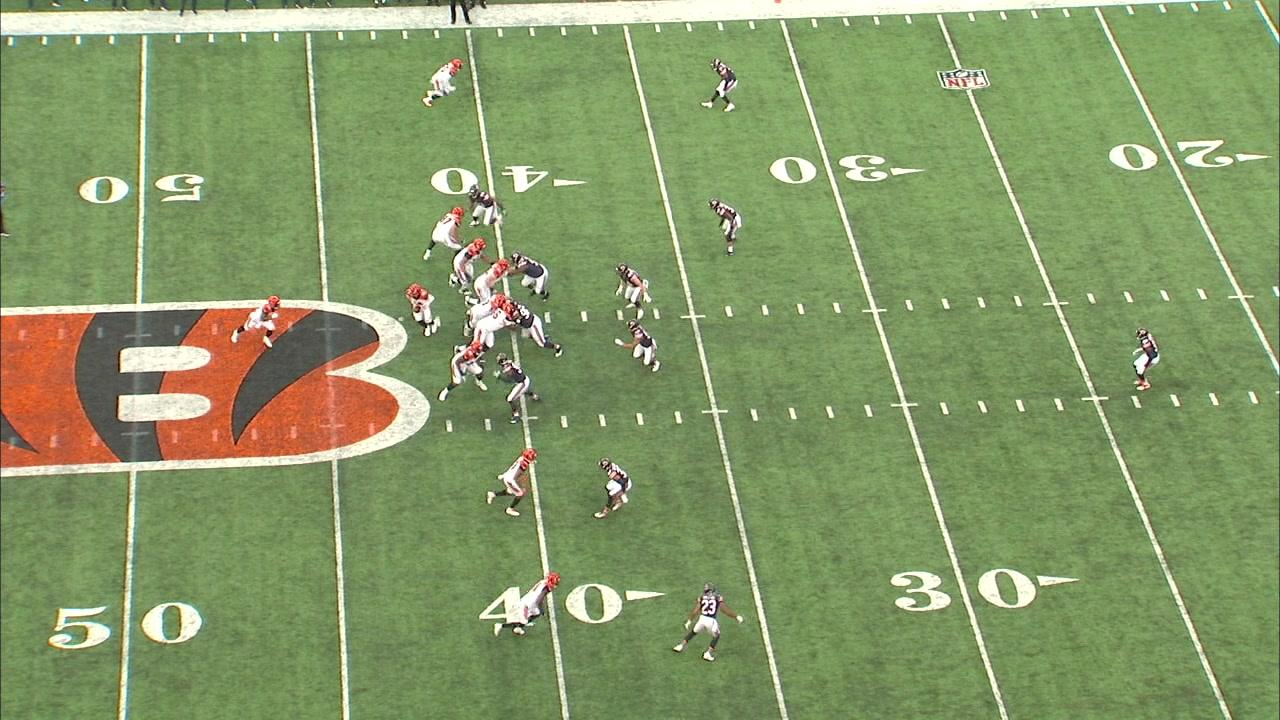player: (491, 569, 567, 634), (673, 585, 738, 660), (480, 442, 537, 517), (492, 352, 542, 419), (510, 301, 567, 359), (454, 306, 518, 354), (440, 345, 490, 404), (232, 295, 286, 348), (426, 200, 468, 266), (589, 457, 630, 518), (403, 280, 443, 341), (612, 262, 654, 319), (617, 322, 661, 375), (705, 194, 745, 252), (423, 56, 469, 106), (449, 236, 488, 294), (512, 248, 553, 302), (704, 55, 740, 115), (462, 293, 511, 336), (1129, 327, 1158, 388), (469, 183, 504, 233), (473, 257, 510, 299)
